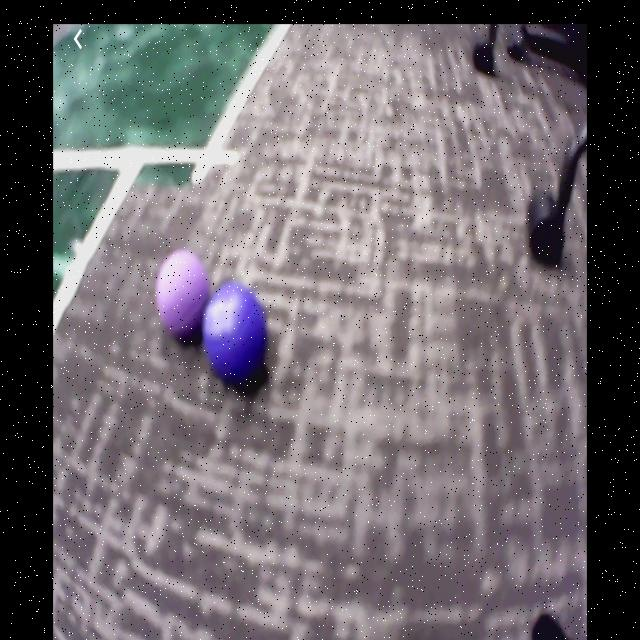ball: (206, 284, 269, 387), (157, 251, 210, 341)
